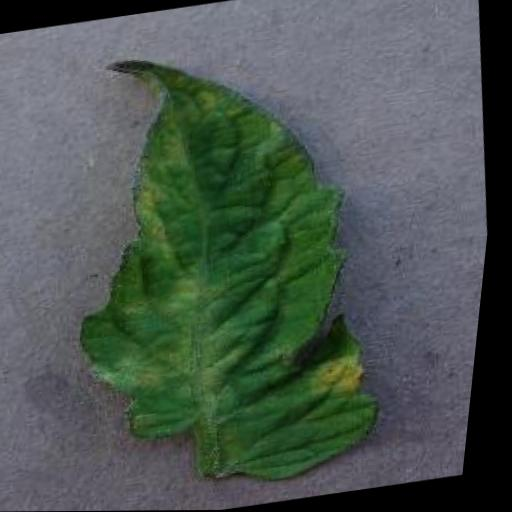Leaf Mold: (31, 24, 423, 505)
